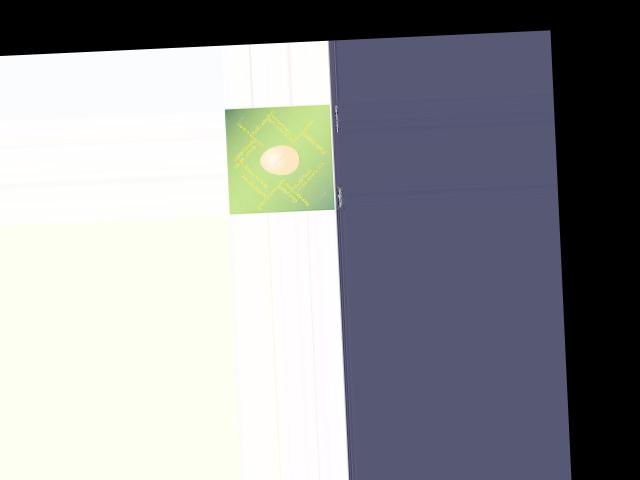egg: (260, 144, 299, 175)
